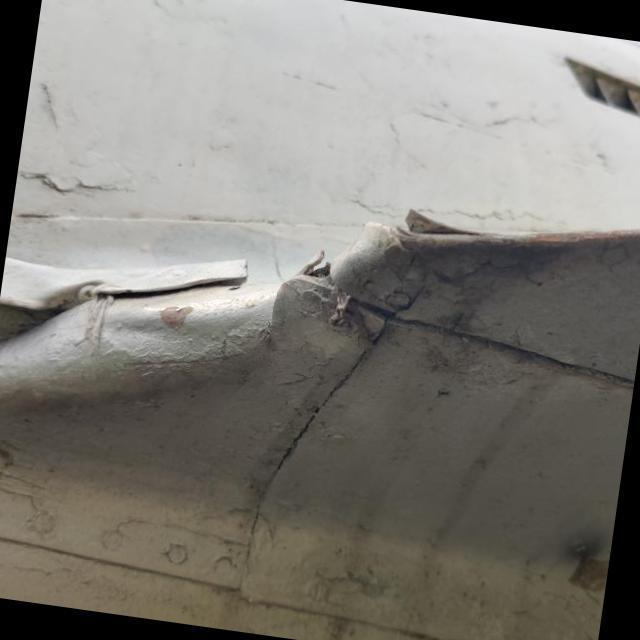Rupture: (357, 188, 506, 272), (272, 224, 360, 307)
